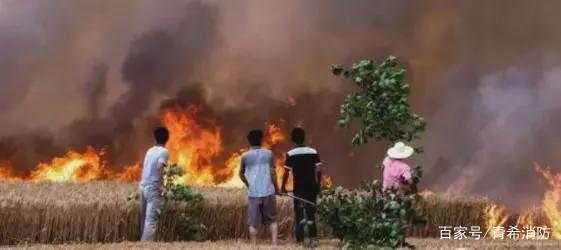fire: (12, 104, 292, 197)
smoke: (146, 20, 561, 102)
